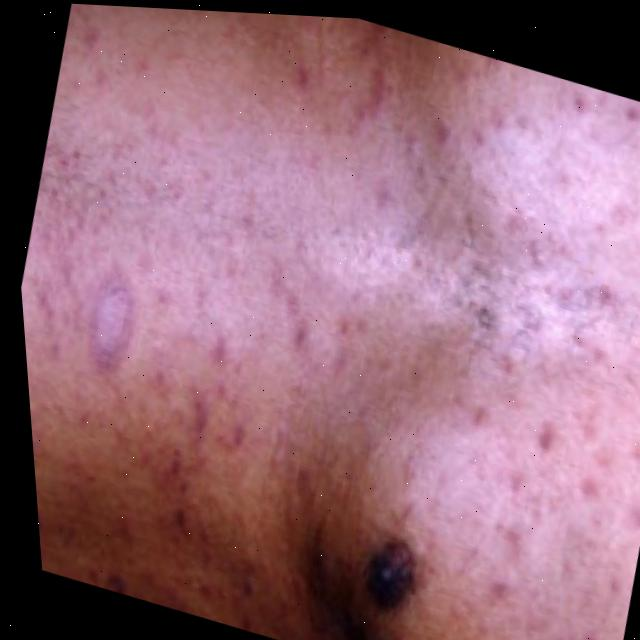Rosacea: (330, 44, 640, 640), (11, 153, 317, 545)
